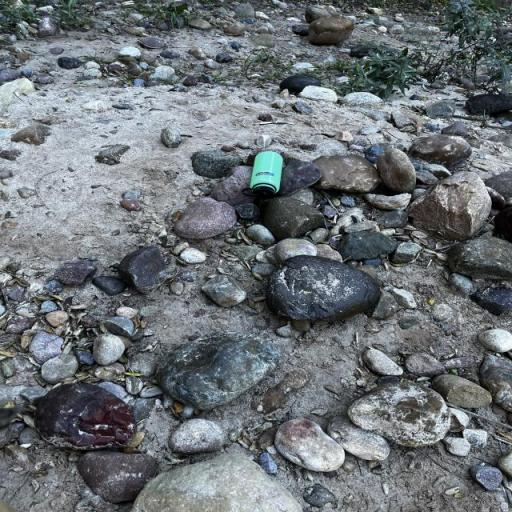bottle: (242, 152, 284, 198)
